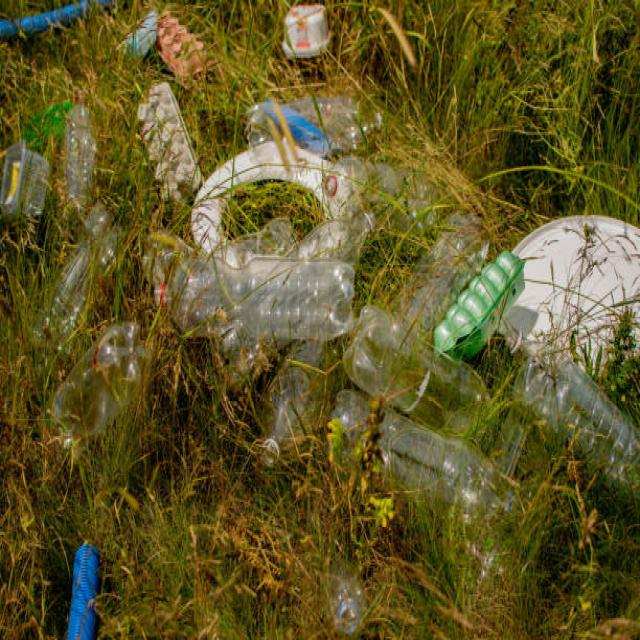plastic: (170, 162, 532, 538)
